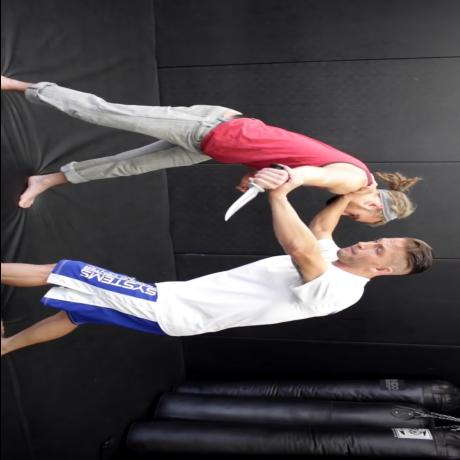1: (0, 76, 419, 224), (0, 222, 433, 354)
weapon: (220, 182, 268, 223)
